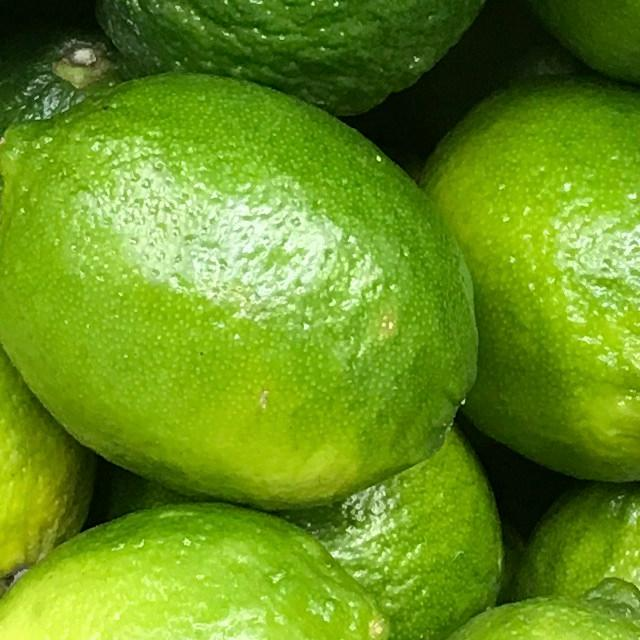lime: (0, 82, 484, 532)
